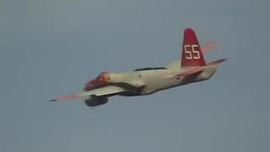aircraft: (49, 27, 231, 107)
